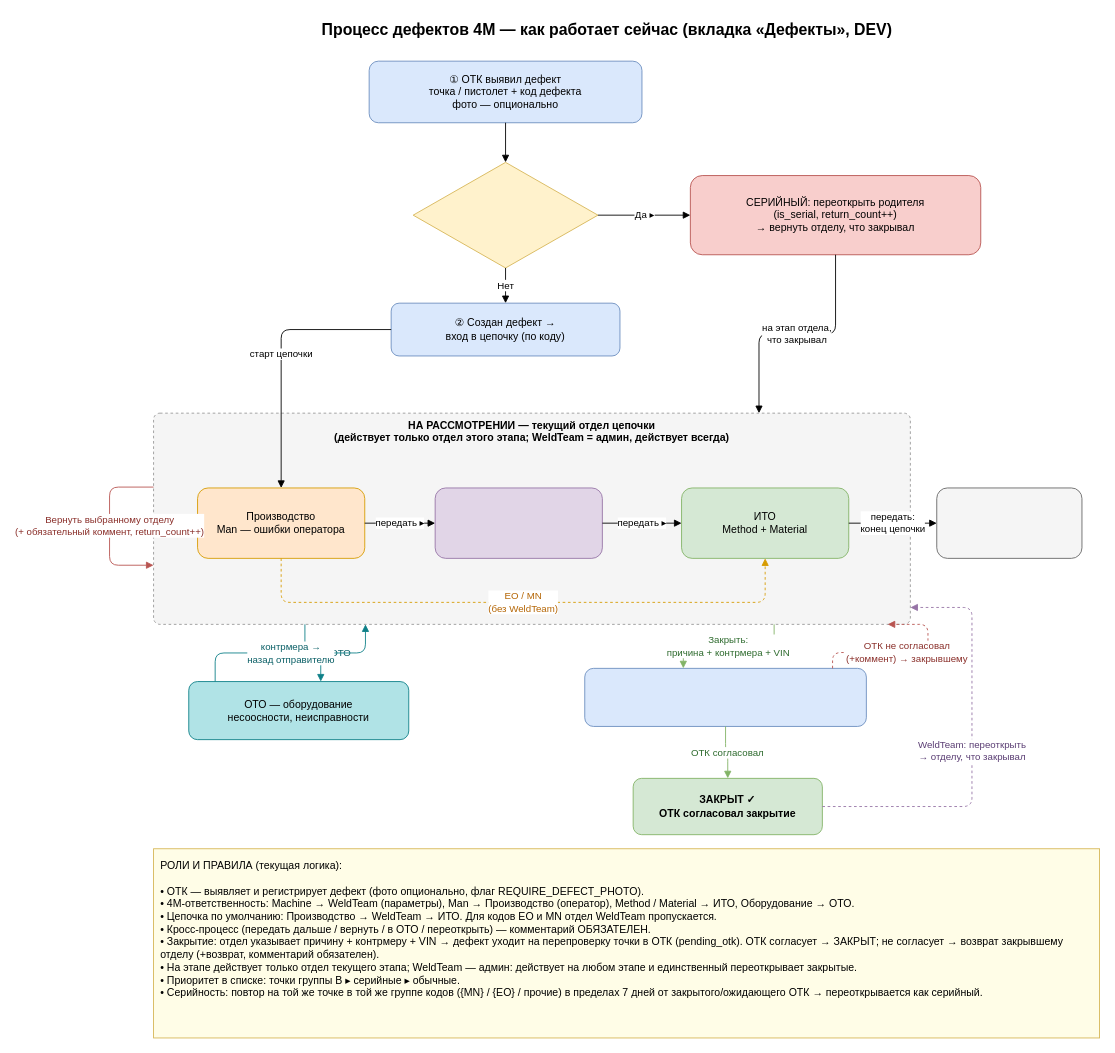
This 1115x1053 diagram has some shape labels left out. Here are the shapes that lost their labels. From the top down, the centre of each, then its label:
At point (505, 214): "Серийный повтор? (та же точка + группа кода, ≤ 7 дней от закрытого)".
At point (518, 522): "WeldTeam Machine — параметры сварки".
At point (1009, 522): "НЕ ВЫЯВЛЕНО конец цепочки → недельный разбор".
At point (725, 696): "ОТК — перепроверка точки (pending_otk: закрыто отделом, ждёт ОТК)".
